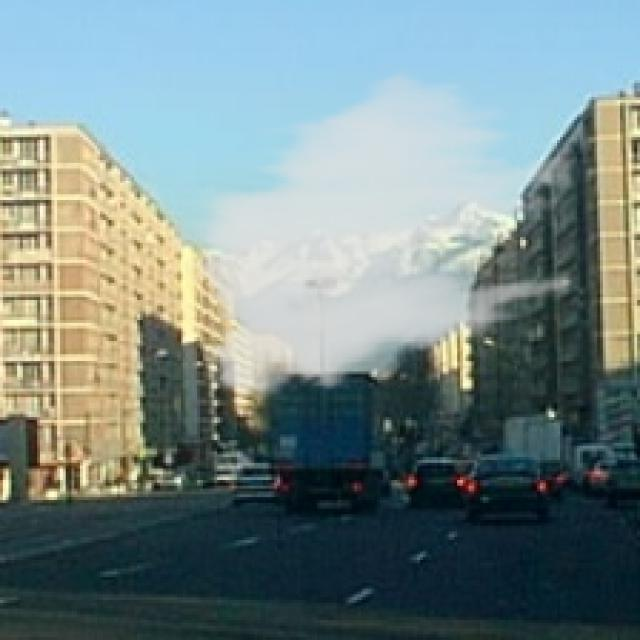smoke: (180, 63, 571, 414)
